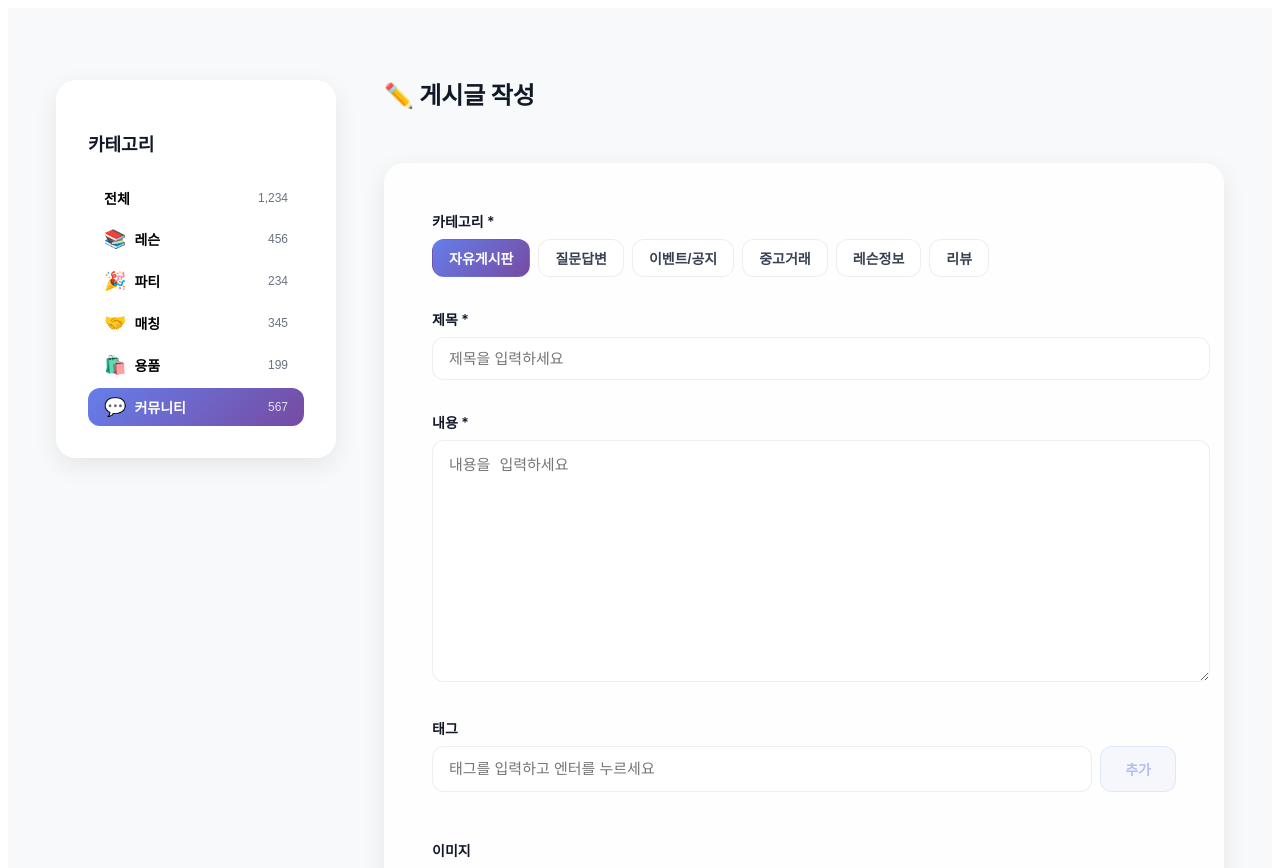
Test: PostForm 컴포넌트 › 태그 관리 › 엔터키로 태그를 추가할 수 있다
Type "발뽀" into the field with placeholder "태그를 입력하고 엔터를 누르세요" at [762, 769], box x1=432 y1=746 x2=1092 y2=792
Then press Enter
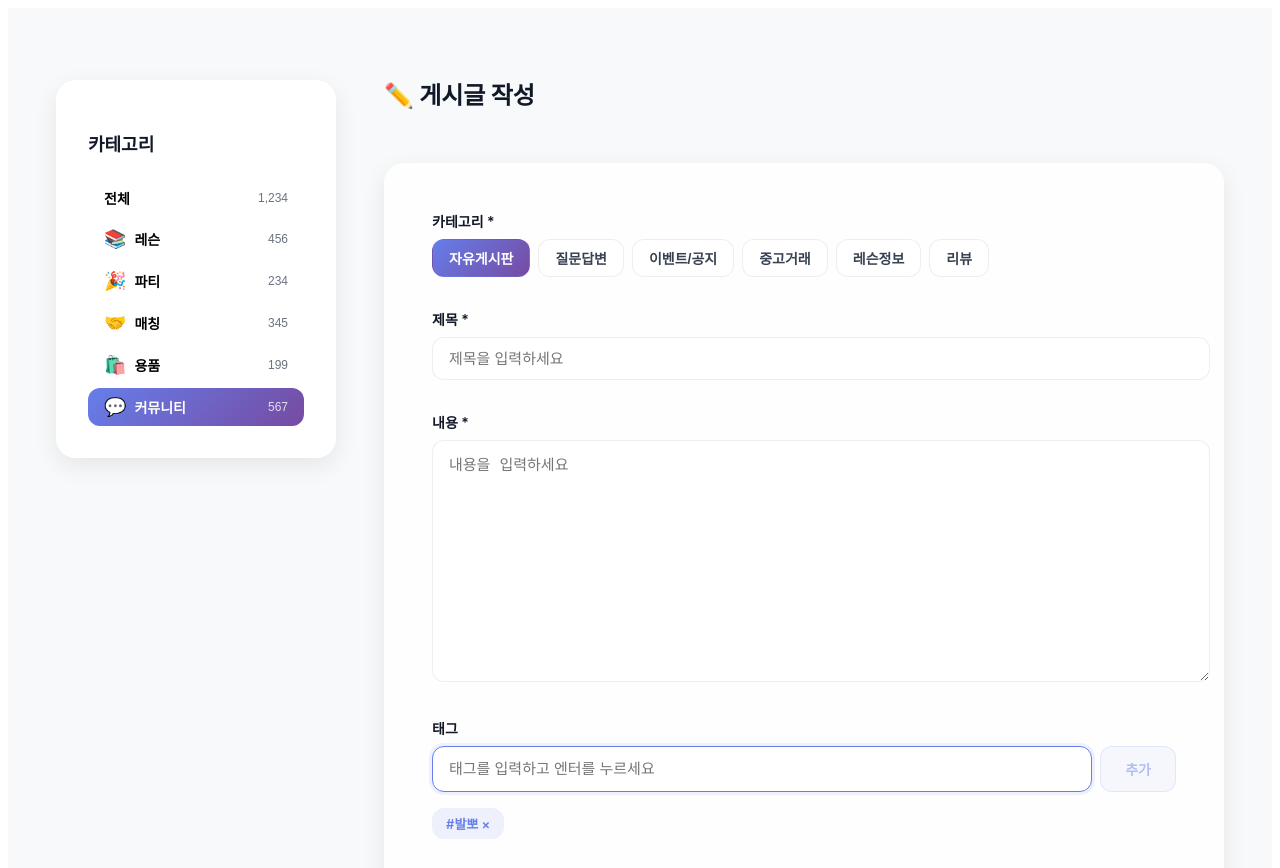
Expected: the text "#발뽀 ×" is shown, x1=432 y1=808 x2=504 y2=839
